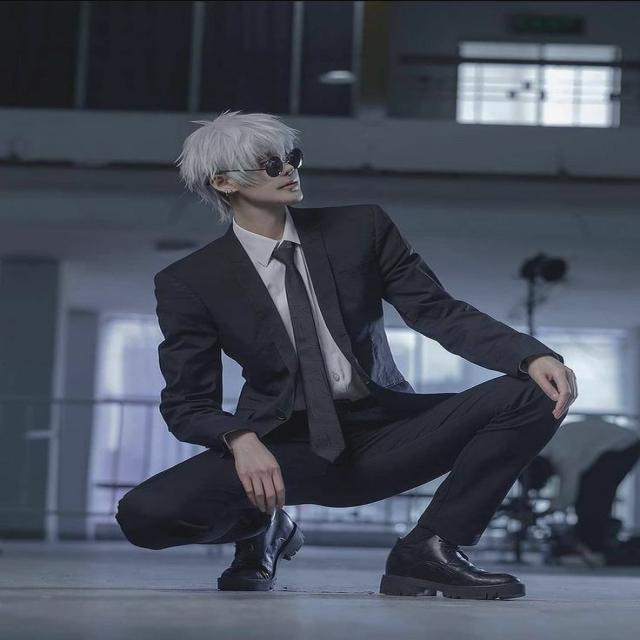sit: (137, 96, 585, 630)
